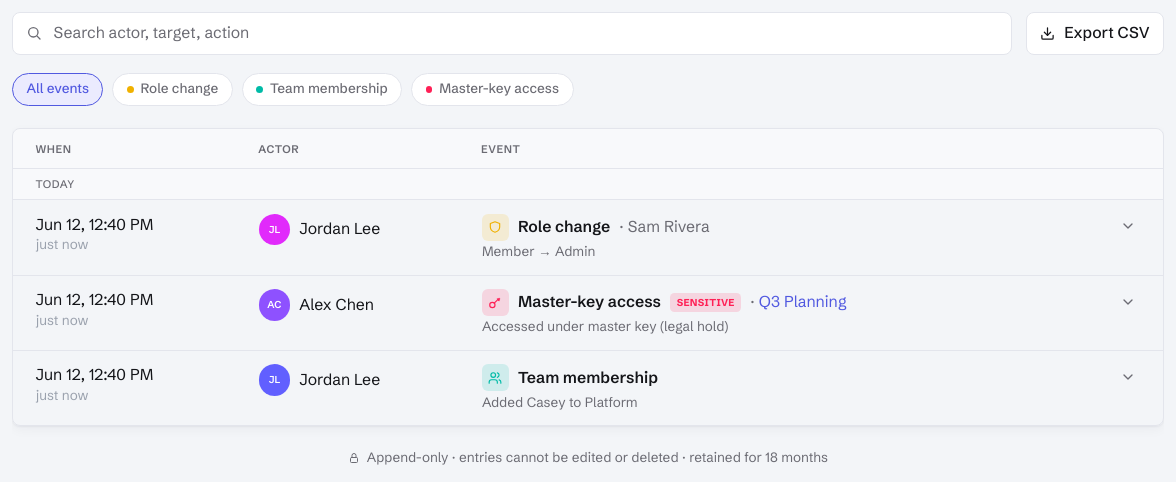
Test: AuditLogClient › search narrows by actor / target / description substring
Type "alex" into the search field named "search audit log" at (512, 33), box [12,12,1012,54]
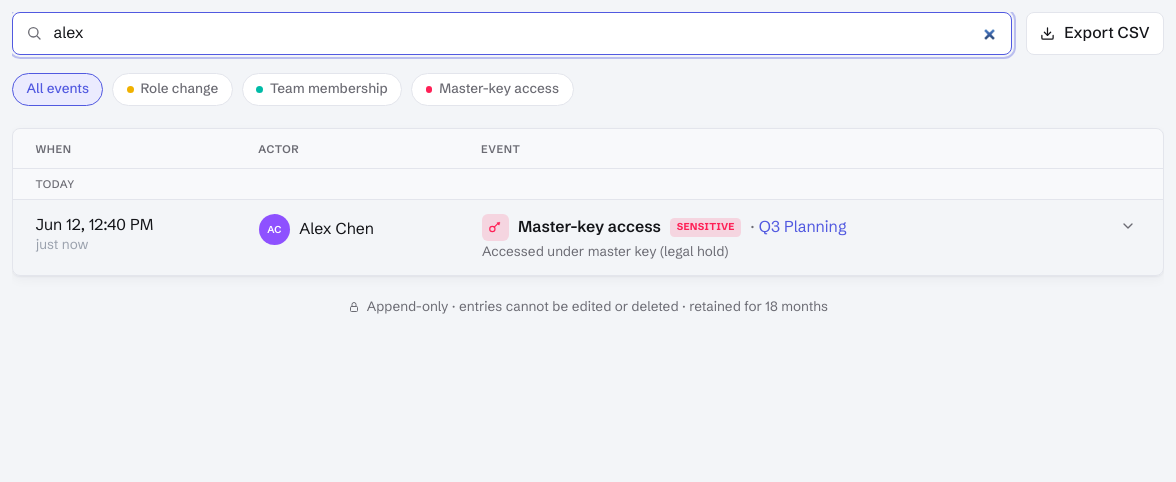
Expected: the text "Accessed under master key (legal hold)" is shown, [482,243,728,259]
Expected: the number of list items is 1, [13,200,1163,275]
Expected: the text "Member → Admin" is gone
